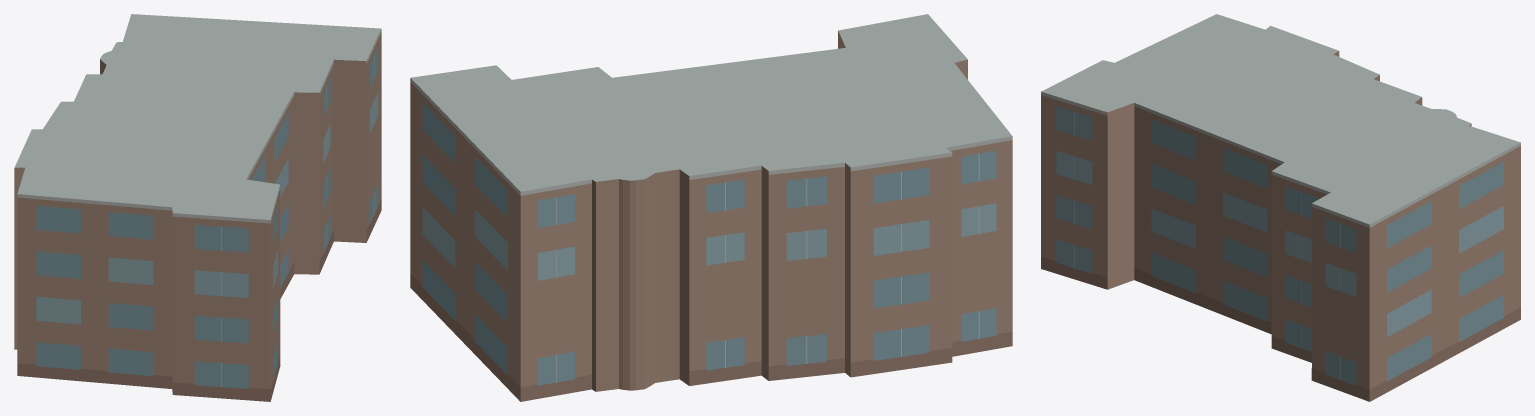
File: survey-upis-32598167.glb
The picture shows the model from 3 angles, left to right: view 1: azimuth 30°, elevation 25°; view 2: azimuth 150°, elevation 25°; view 3: azimuth 270°, elevation 25°; orthographic projection. The views are drawn at different scales.
Parts seen in each view (by area): view 1: survey-upis-32598167.tmp; view 2: survey-upis-32598167.tmp; view 3: survey-upis-32598167.tmp.
Part boxes in pixels (x1,y1,x2,y2): survey-upis-32598167.tmp: [14, 14, 381, 401]; survey-upis-32598167.tmp: [410, 14, 1012, 401]; survey-upis-32598167.tmp: [1041, 14, 1520, 401].
Bounding box in the file's own units: 32.88 × 12.9 × 31.64.
